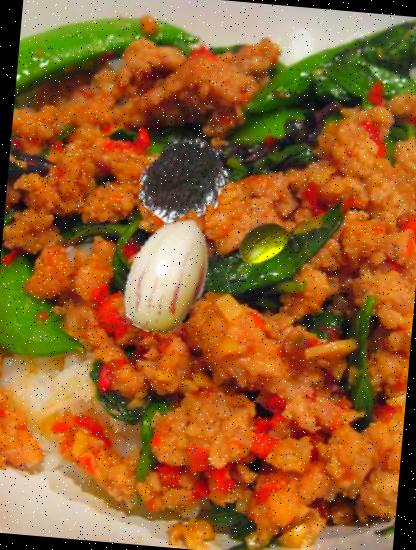Melon: (234, 214, 291, 272)
Pepino: (104, 210, 235, 342)
Rambutan: (138, 134, 234, 230)
